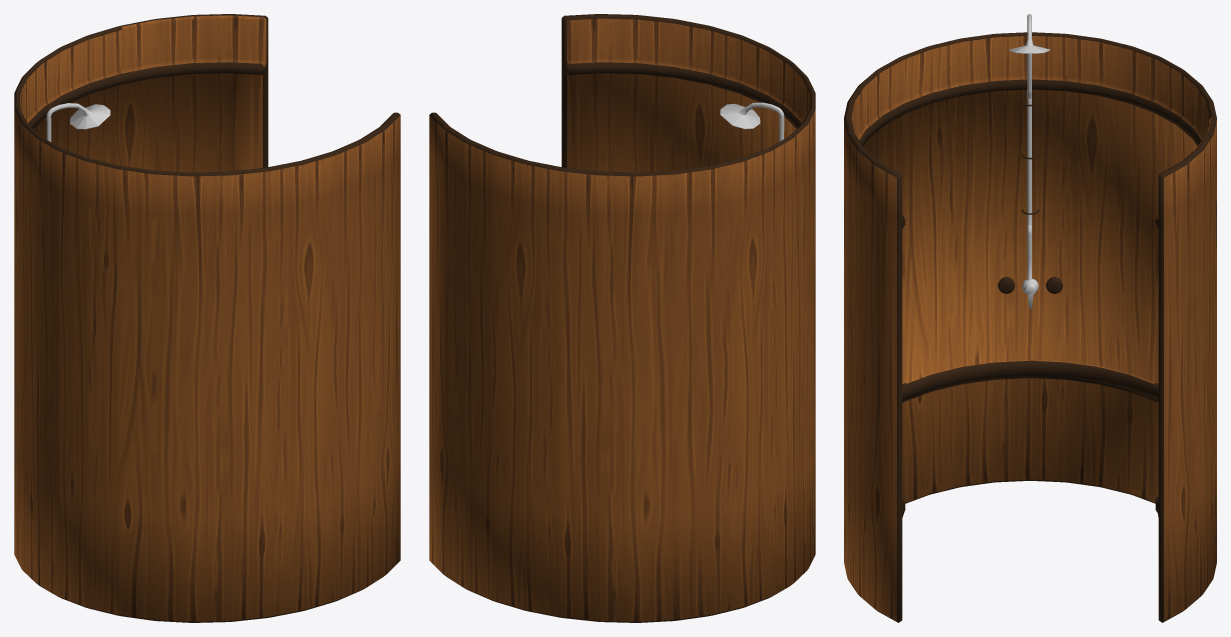
The model's file is Shower Stall.fbx.
3 views of the same model, side by side, from view 1: azimuth 30°, elevation 25°; view 2: azimuth 150°, elevation 25°; view 3: azimuth 270°, elevation 25° (orthographic).
Visible parts, largest first — view 1: Stall, Shower; view 2: Stall, Shower; view 3: Stall, Shower.
Part boxes in pixels (box(x1,y1,x2,y2)): Stall: box(14, 14, 400, 622); Shower: box(46, 103, 110, 141); Stall: box(429, 14, 815, 622); Shower: box(720, 102, 784, 141); Stall: box(844, 32, 1216, 622); Shower: box(998, 14, 1062, 308).
Size of the model in its own units: 265 by 406 by 289.
